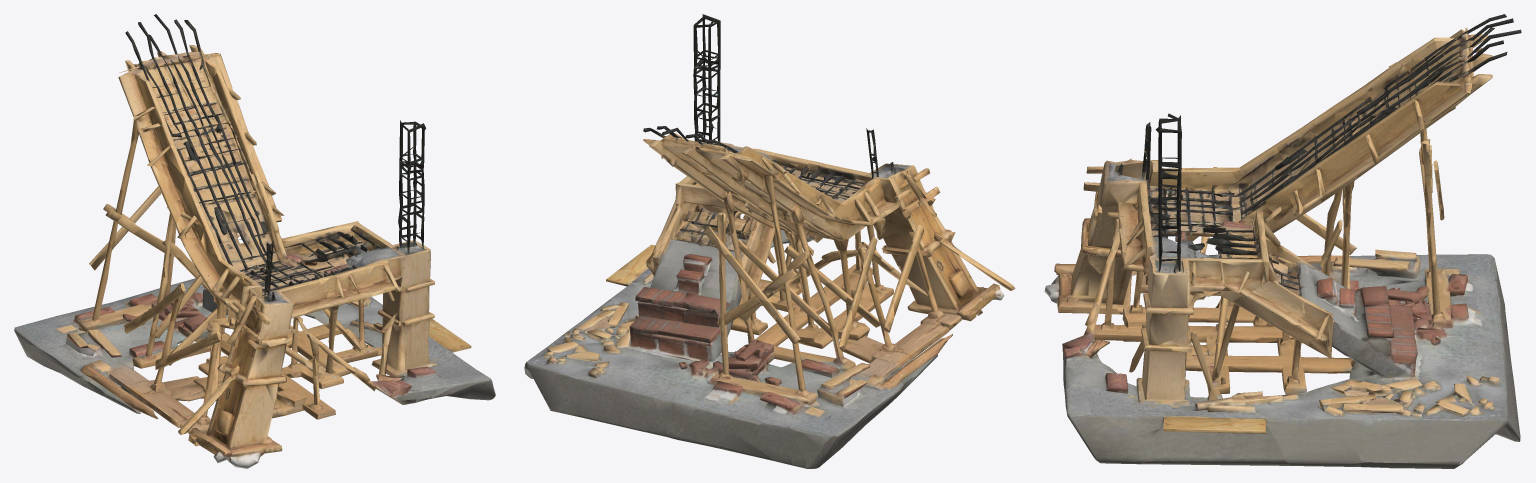
File: tripo-obra-ma10.glb
3 renders of one model, left to right at view 1: azimuth 30°, elevation 25°; view 2: azimuth 150°, elevation 25°; view 3: azimuth 270°, elevation 25°, orthographic. The views are drawn at different scales.
Visible parts, largest first — view 1: tripo-obra-ma10.glb; view 2: tripo-obra-ma10.glb; view 3: tripo-obra-ma10.glb.
Part boxes in pixels (x1,y1,x2,y2): tripo-obra-ma10.glb: (14, 14, 495, 468); tripo-obra-ma10.glb: (524, 14, 1015, 468); tripo-obra-ma10.glb: (1044, 14, 1521, 468).
Bounding box in the file's own units: 1.18 × 1.05 × 1.28.
Materials: 1 (1 with a texture image).
